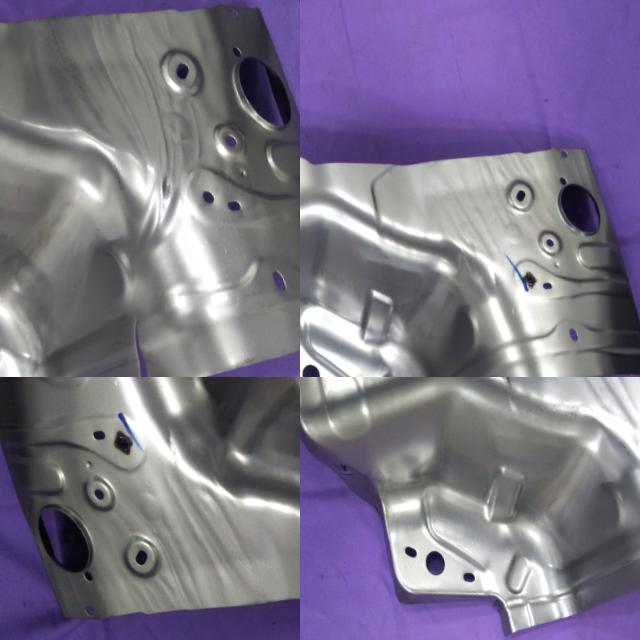Defect: (107, 294, 177, 377)
Healthy: (300, 81, 640, 377), (300, 377, 640, 640), (0, 377, 300, 640)
